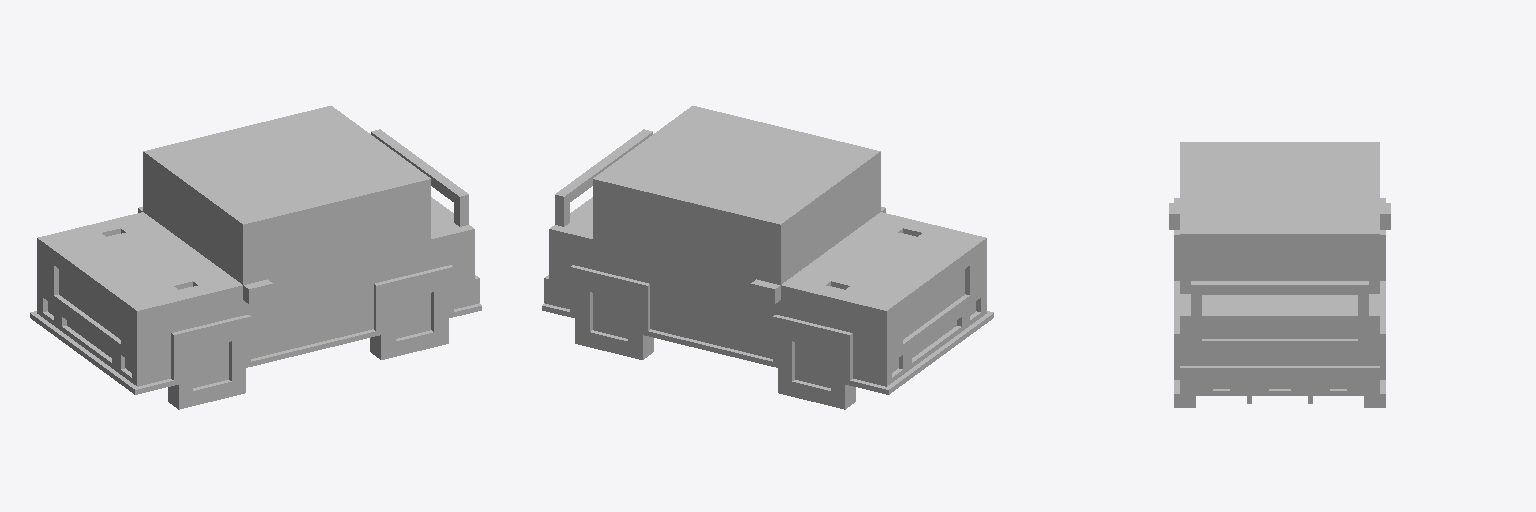
File: alll cars3-6.obj
3 views of the same model, side by side, from view 1: azimuth 30°, elevation 25°; view 2: azimuth 150°, elevation 25°; view 3: azimuth 270°, elevation 25° (orthographic).
Parts seen in each view (by area): view 1: object 1; view 2: object 1; view 3: object 1.
Boxes of the visible parts, x1=… form: object 1: x1=30, y1=106, x2=481, y2=409; object 1: x1=542, y1=106, x2=993, y2=409; object 1: x1=1169, y1=142, x2=1390, y2=407.
Bounding box in the file's own units: 7.2 × 3.3 × 4.